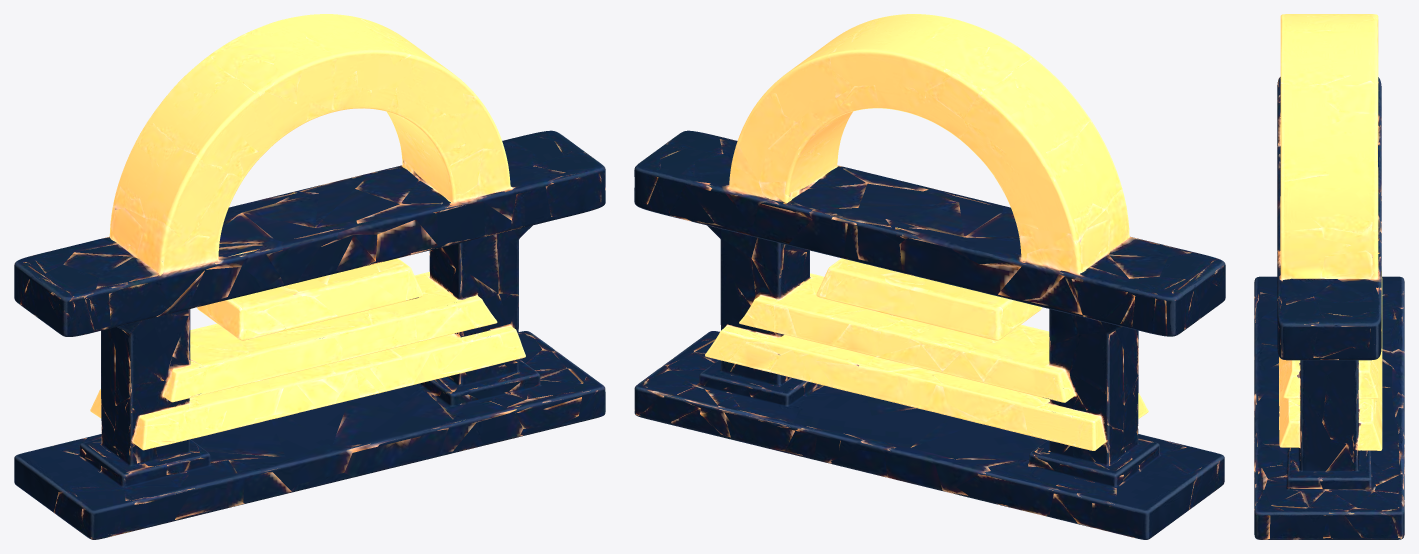
Rendered from horizon.glb.
3 views of the same model, side by side, from view 1: azimuth 30°, elevation 25°; view 2: azimuth 150°, elevation 25°; view 3: azimuth 270°, elevation 25° (orthographic). The views are drawn at different scales.
Visible parts, largest first — view 1: Mesh_0; view 2: Mesh_0; view 3: Mesh_0.
Part boxes in pixels (box(x1,y1,x2,y2)): Mesh_0: box(14, 14, 605, 539); Mesh_0: box(634, 14, 1225, 539); Mesh_0: box(1254, 14, 1404, 539).
Bounding box in the file's own units: 1.9 × 1.38 × 0.483.
Materials: 1 (1 with a texture image).
